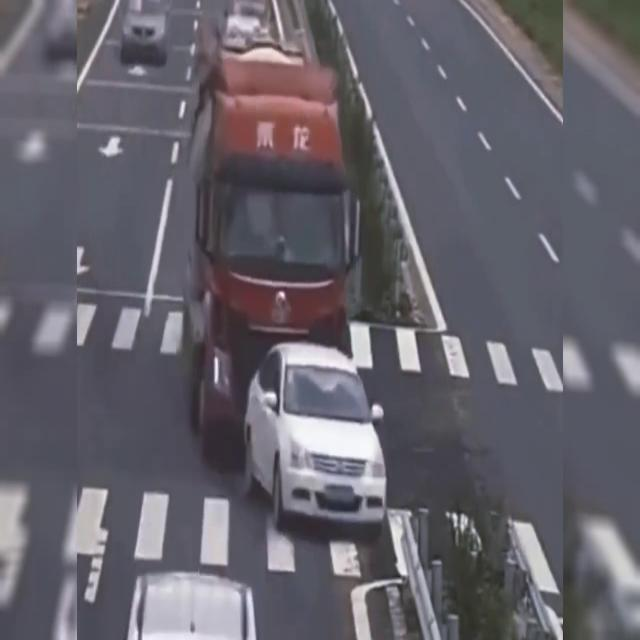multiple_accident: (171, 27, 410, 553)
